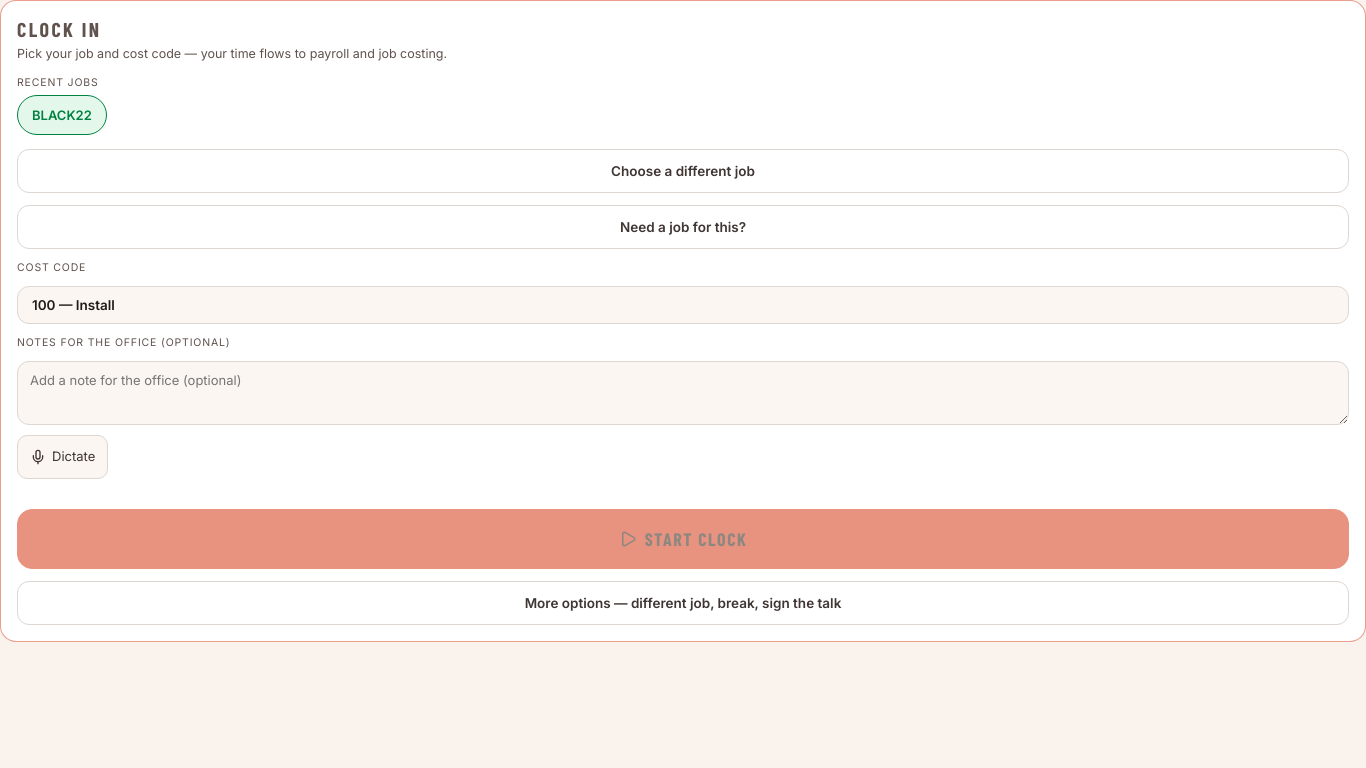
Test: the clock-in block › requires a cost code before the button will start
This screenshot has width=1366, height=768.
Expected: the button with class "big" is disabled, [17,509,1349,569]
What coordinates should you click on to do the following:
click the button with class "clock-costcode-item"
I would click on:
 (95, 305)
Its box is [17,286,1349,324].
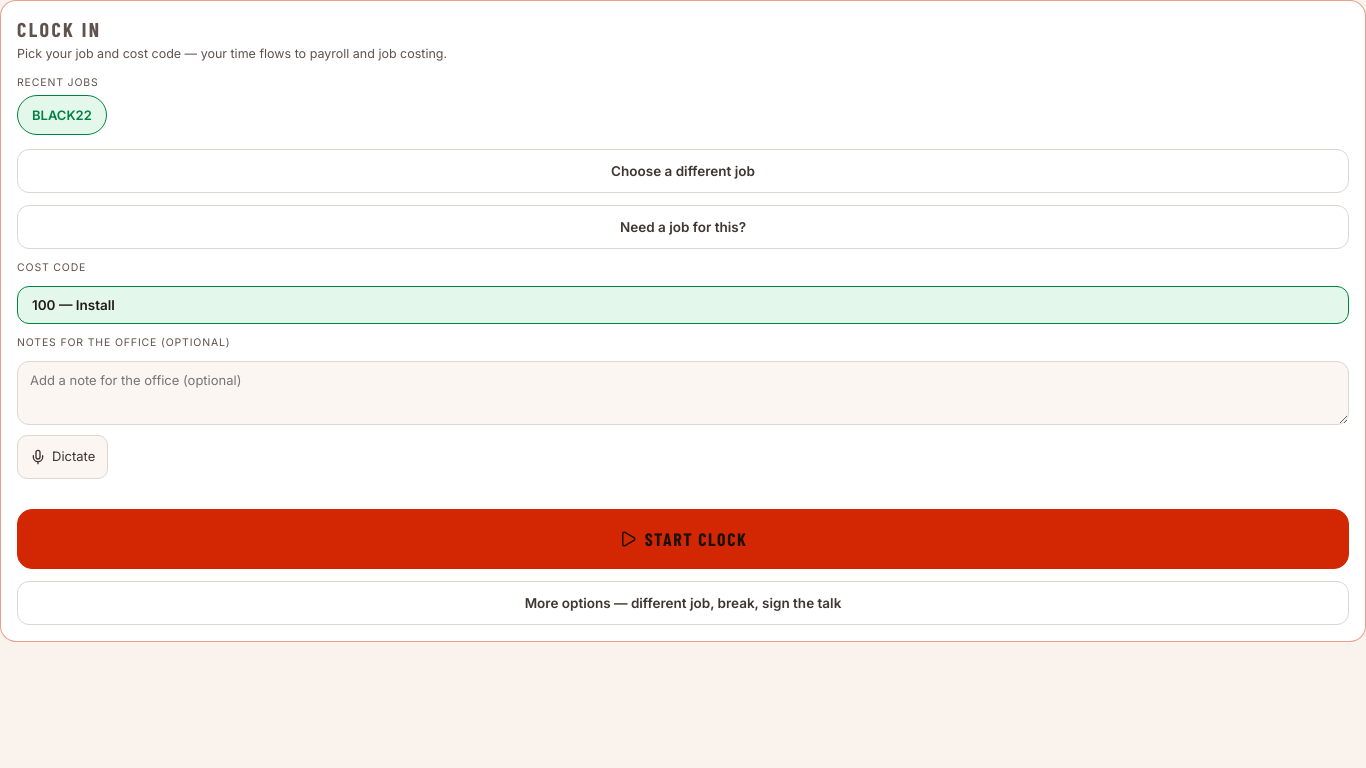
Expected: the button with class "big" is enabled, [17,509,1349,569]
